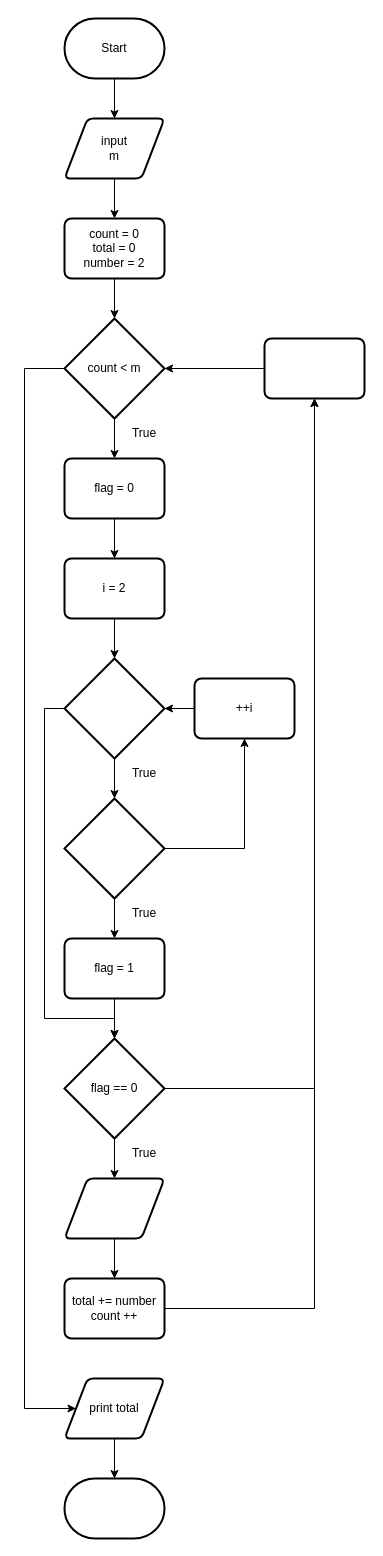
Image size: 383x1556. Some labels were removed from this diagram. Each missing label, with the centre of its shape:
"End" goes at [114,1508].
"i < = number / 2" goes at [114,708].
"number % i == 0" goes at [114,848].
"number++" goes at [314,368].
"print number" goes at [114,1208].
